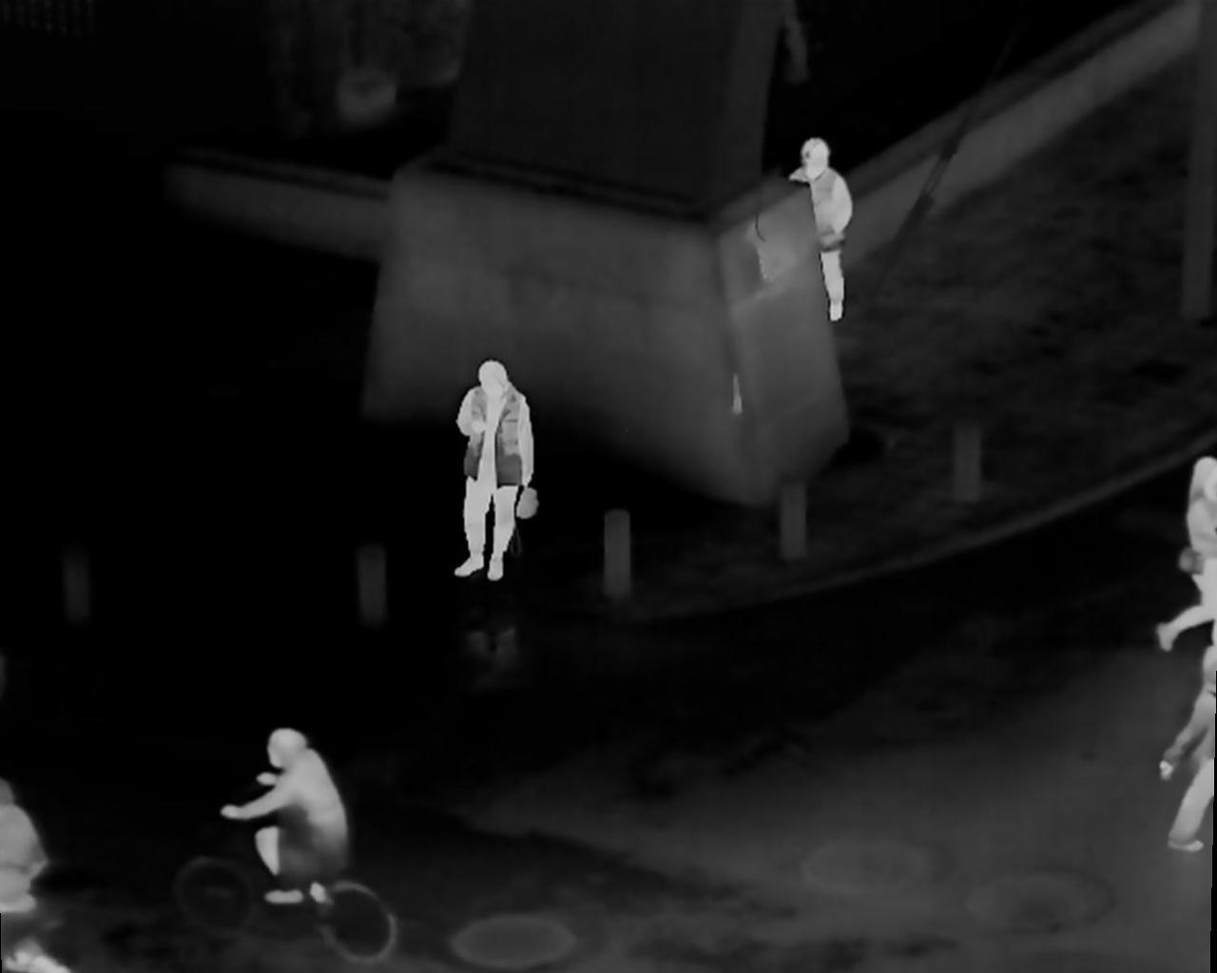person: (216, 725, 356, 912), (445, 355, 555, 587), (1157, 653, 1217, 867), (783, 137, 853, 315), (1153, 456, 1214, 651)
